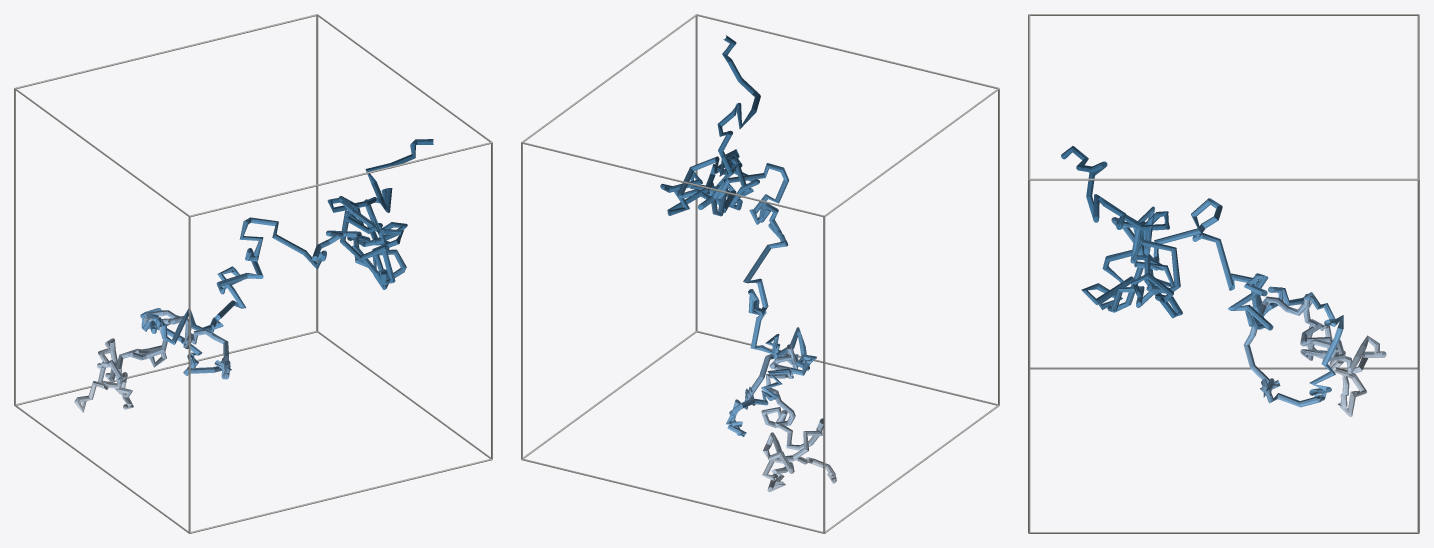
3 renders of one model, left to right at view 1: azimuth 30°, elevation 25°; view 2: azimuth 150°, elevation 25°; view 3: azimuth 270°, elevation 25°, orthographic. The views are drawn at different scales.
Parts seen in each view (by area): view 1: geometry_0, geometry_1; view 2: geometry_0, geometry_1; view 3: geometry_0, geometry_1.
Boxes of the visible parts, x1,y1,x2,y2 form: geometry_0: (74, 139, 433, 412); geometry_1: (14, 14, 492, 533); geometry_0: (660, 35, 836, 491); geometry_1: (521, 14, 999, 533); geometry_0: (1061, 146, 1386, 417); geometry_1: (1028, 14, 1419, 533).
Size of the model in its own units: 0.3016 by 0.304 by 0.3016.
